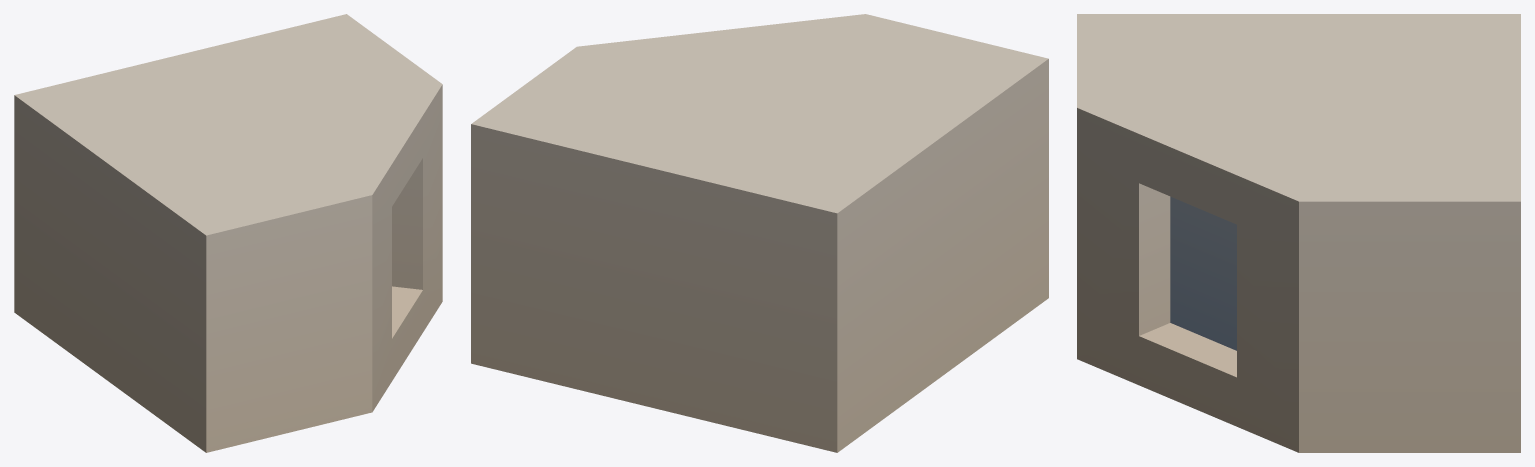
Rendered from building-corner-window.glb.
3 renders of one model, left to right at view 1: azimuth 30°, elevation 25°; view 2: azimuth 150°, elevation 25°; view 3: azimuth 270°, elevation 25°, orthographic. The views are drawn at different scales.
Visible parts, largest first — view 1: building-corner-window; view 2: building-corner-window; view 3: building-corner-window.
Boxes of the visible parts, <box> form: building-corner-window: <box>14,14,442,452</box>; building-corner-window: <box>471,14,1048,452</box>; building-corner-window: <box>1077,14,1520,452</box>.
Size of the model in its own units: 1 by 0.625 by 1.
